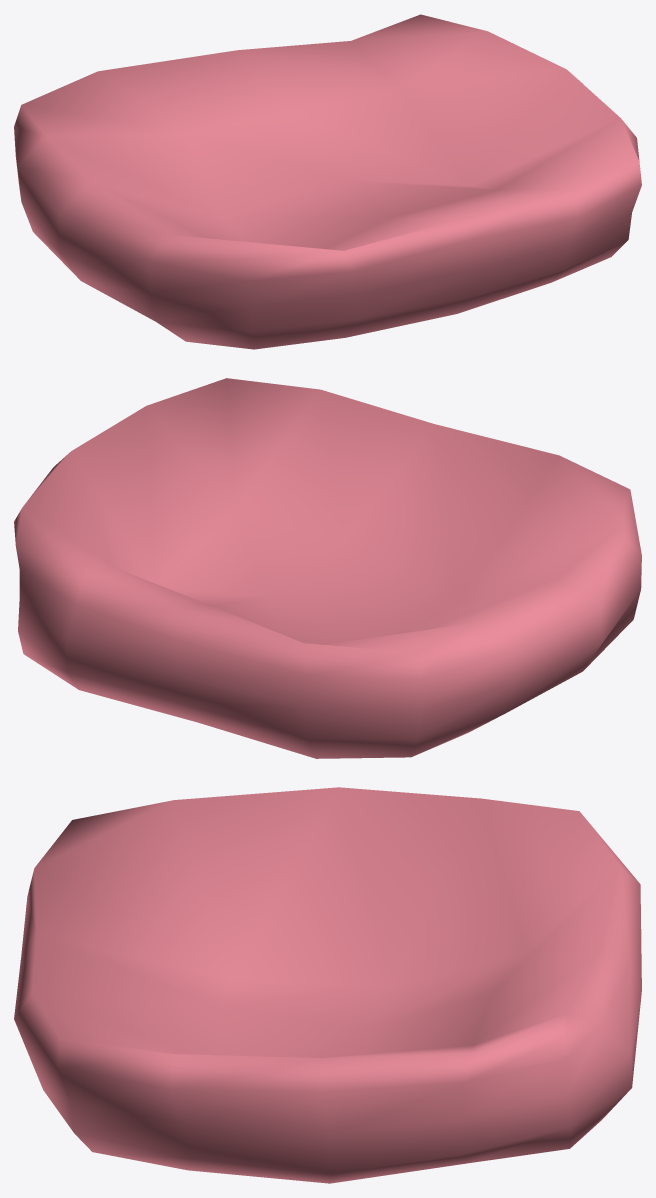
Rendered from tumor.fbx.
3 renders of one model, top to bottom at view 1: azimuth 30°, elevation 25°; view 2: azimuth 150°, elevation 25°; view 3: azimuth 270°, elevation 25°, orthographic. The views are drawn at different scales.
Visible parts, largest first — view 1: Cube; view 2: Cube; view 3: Cube.
Part boxes in pixels (<box>): Cube: <box>14,14,641,349</box>; Cube: <box>14,378,641,758</box>; Cube: <box>14,787,641,1183</box>.
Size of the model in its own units: 723 by 198 by 628.
